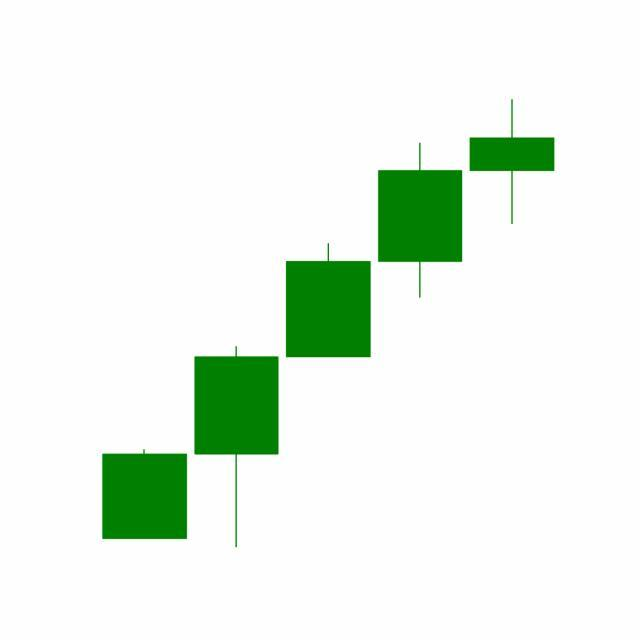Spinning Top: (466, 98, 559, 226)
